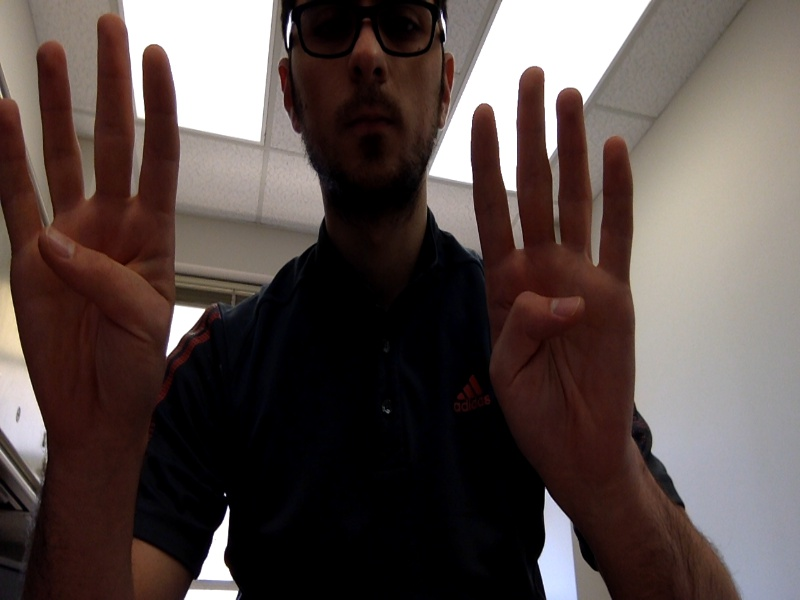4-hand: (1, 14, 178, 416), (469, 65, 636, 471)
